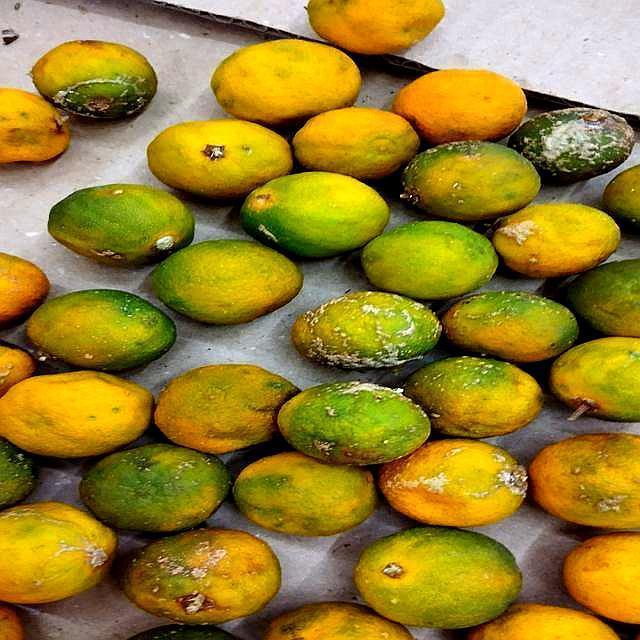Biodegradable: (281, 1, 640, 436), (1, 116, 283, 442), (282, 435, 640, 640), (1, 443, 278, 638), (1, 37, 155, 166)
